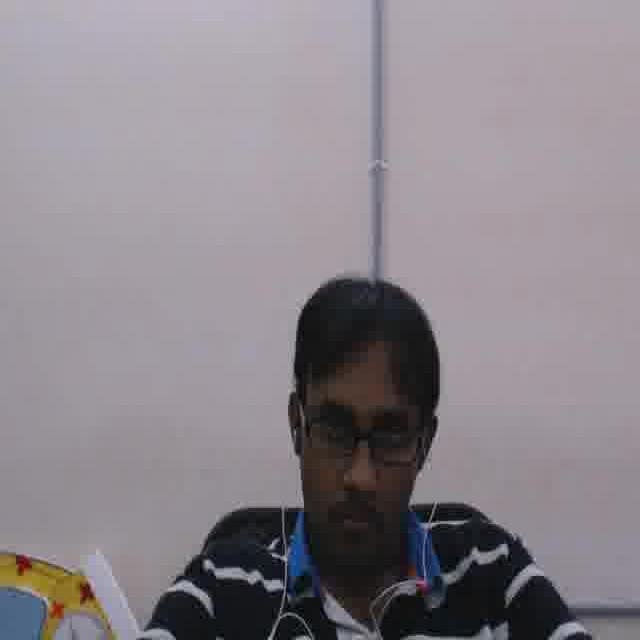Engaged: (300, 353, 417, 564)
